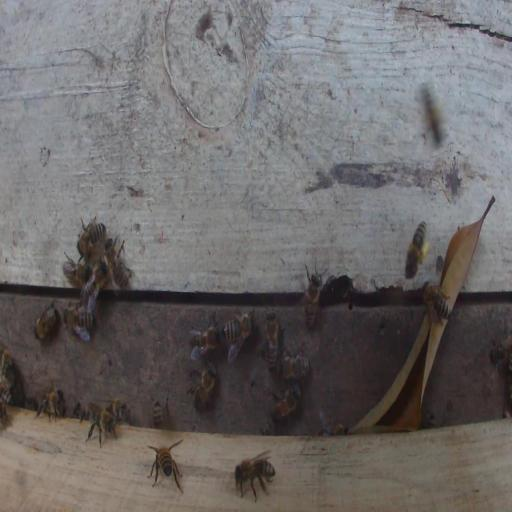bee: (234, 451, 276, 501), (147, 440, 183, 493), (220, 311, 254, 362), (303, 258, 326, 330), (103, 237, 134, 288), (186, 362, 217, 410), (422, 281, 451, 325), (2, 347, 24, 404), (64, 300, 94, 341), (407, 221, 428, 278), (77, 217, 106, 258), (423, 85, 443, 143), (62, 251, 91, 288), (83, 261, 109, 302), (271, 386, 300, 422), (189, 324, 221, 355), (34, 299, 58, 340), (34, 389, 64, 421), (263, 310, 279, 370), (86, 405, 115, 437), (279, 352, 310, 381), (106, 397, 130, 423), (489, 343, 510, 372), (319, 423, 348, 434), (1, 383, 12, 406), (153, 402, 163, 426), (0, 401, 6, 427)
